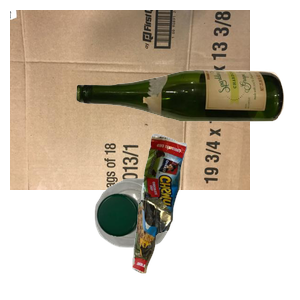cardboard: (10, 10, 250, 190)
glass: (74, 67, 300, 181)
plastic: (92, 176, 257, 300)
trash: (130, 131, 300, 300)
